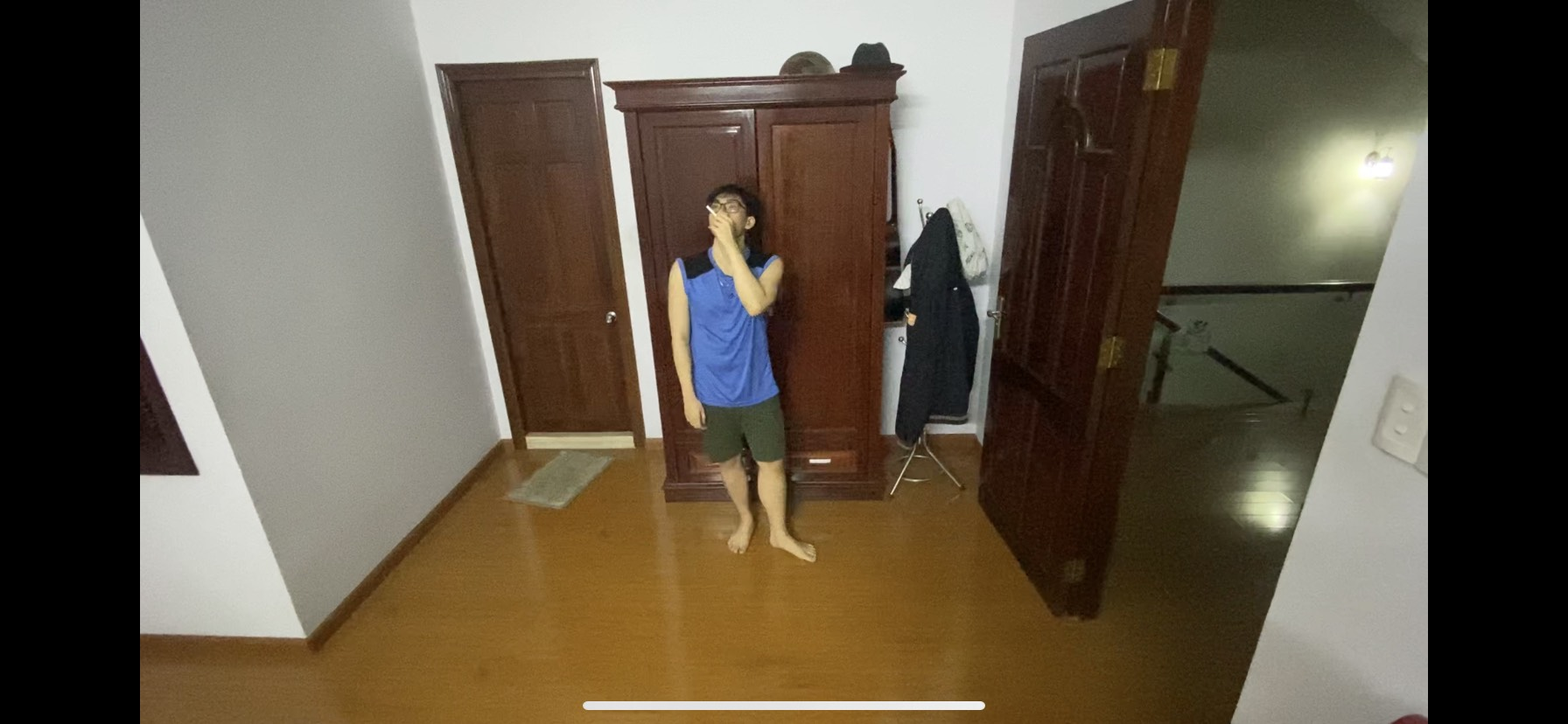cigarette: (706, 204, 717, 217)
person: (648, 173, 822, 573)
